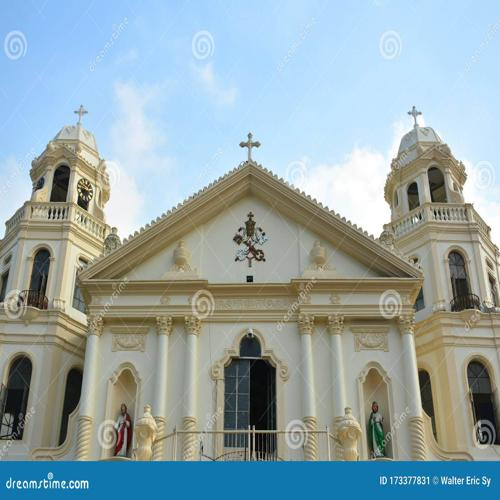Quiapo Church: (5, 97, 497, 461)
